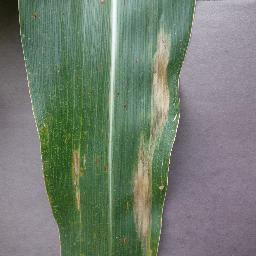Corn_Blight: (126, 22, 177, 256), (66, 144, 88, 221), (37, 109, 55, 170), (43, 170, 59, 214), (117, 232, 126, 255), (31, 9, 41, 21)
